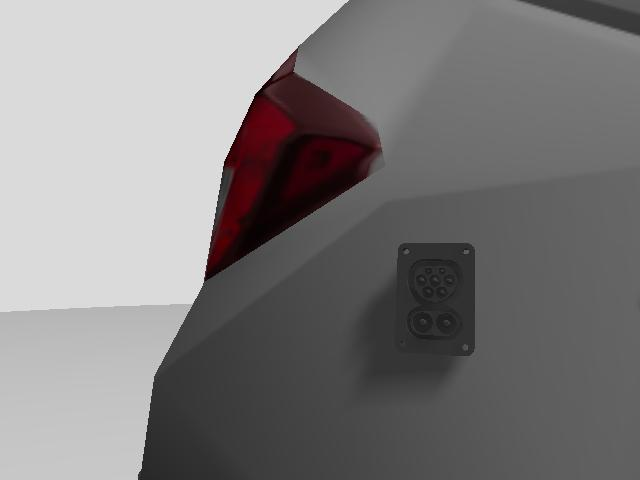EV-socket: (394, 238, 475, 355)
